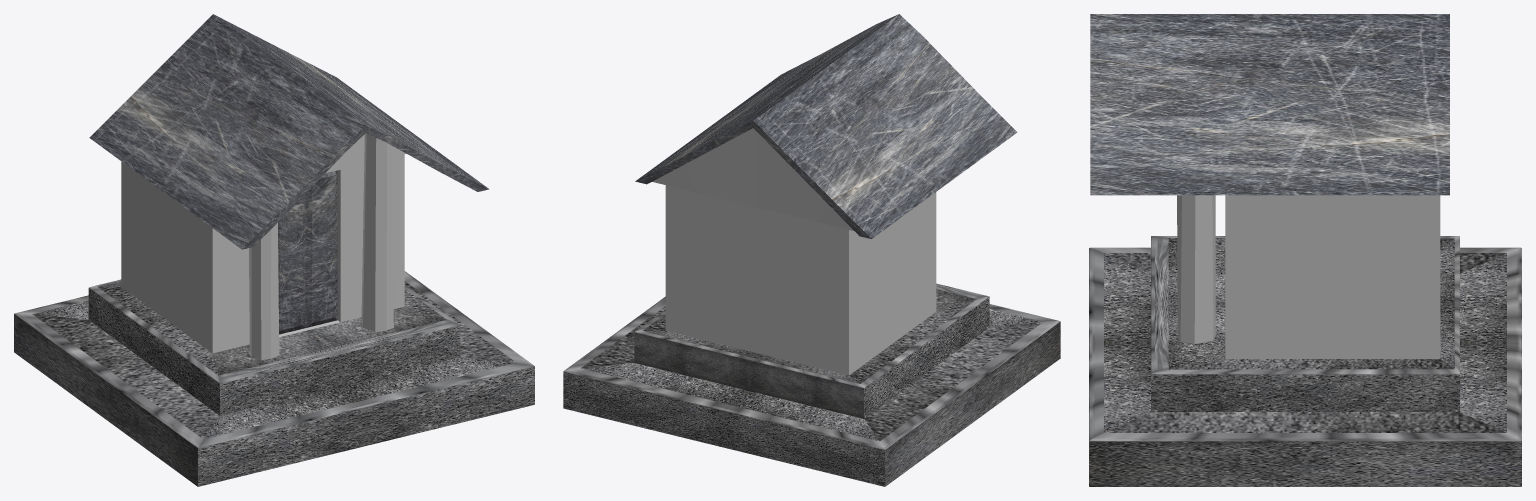
Rendered from GraveStone-Building.fbx.
The picture shows the model from 3 angles, left to right: view 1: azimuth 30°, elevation 25°; view 2: azimuth 150°, elevation 25°; view 3: azimuth 270°, elevation 25°; orthographic projection. The views are drawn at different scales.
Parts seen in each view (by area): view 1: Cube; view 2: Cube; view 3: Cube.
Boxes of the visible parts, x1=… form: Cube: x1=14, y1=14, x2=534, y2=486; Cube: x1=563, y1=14, x2=1060, y2=486; Cube: x1=1089, y1=14, x2=1521, y2=486.
Bounding box in the file's own units: 537 × 487 × 508.
